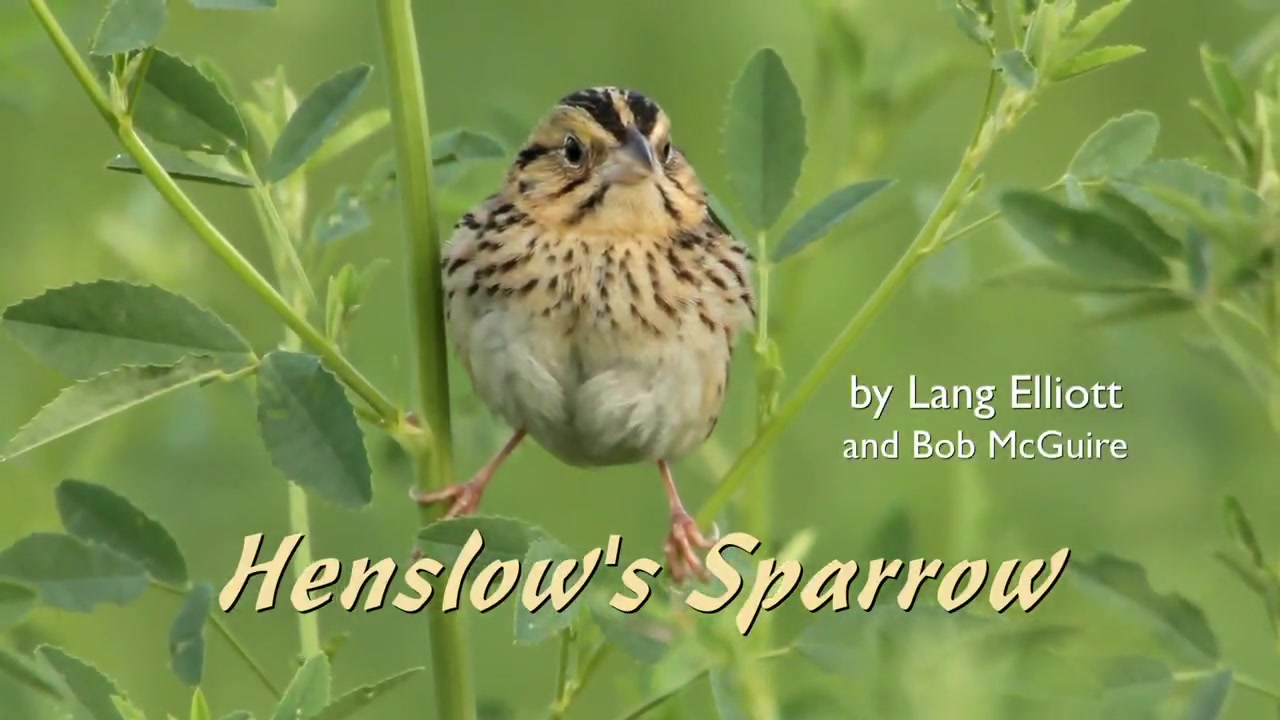bird: (408, 86, 759, 586)
